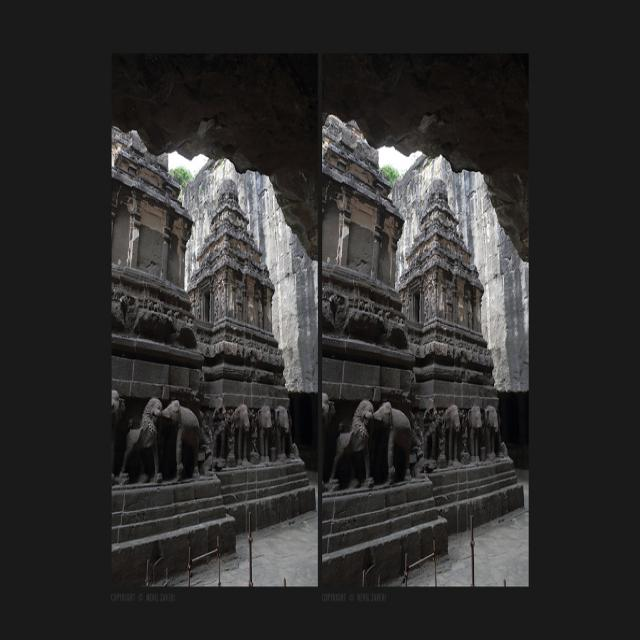elephant: (146, 399, 200, 470)
